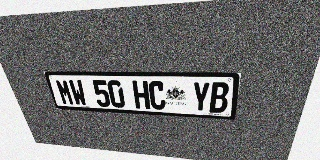0: (106, 80, 125, 108)
5: (92, 80, 111, 107)
B: (209, 82, 230, 113)
C: (148, 81, 166, 110)
H: (132, 81, 150, 109)
M: (55, 79, 75, 105)
W: (68, 79, 88, 106)
Y: (192, 82, 210, 112)
